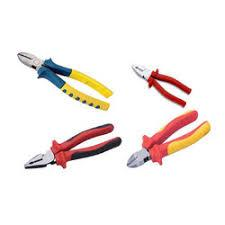pliers: (15, 49, 114, 111), (125, 108, 212, 168), (22, 121, 122, 170), (130, 62, 192, 108)
